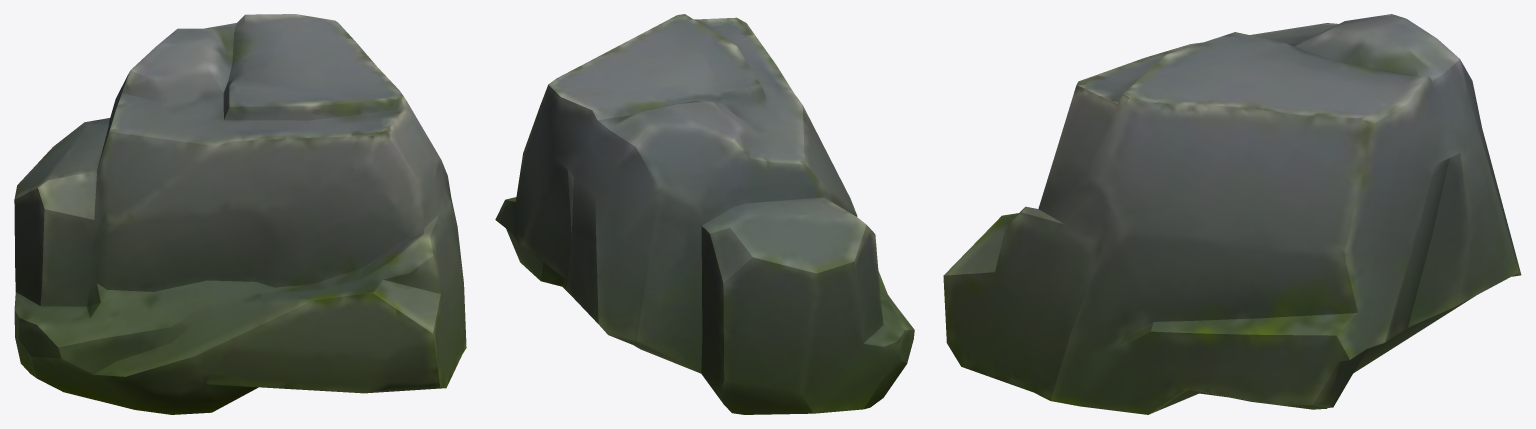
Rendered from rock-medium-3.glb.
3 views of the same model, side by side, from view 1: azimuth 30°, elevation 25°; view 2: azimuth 150°, elevation 25°; view 3: azimuth 270°, elevation 25° (orthographic). The views are drawn at different scales.
Parts seen in each view (by area): view 1: Rock_Medium_3; view 2: Rock_Medium_3; view 3: Rock_Medium_3.
Part boxes in pixels (<box>): Rock_Medium_3: <box>14,14,466,414</box>; Rock_Medium_3: <box>495,14,914,414</box>; Rock_Medium_3: <box>943,14,1521,414</box>.
Size of the model in its own units: 3.42 by 2.32 by 3.48.
Materials: 1 (1 with a texture image).
